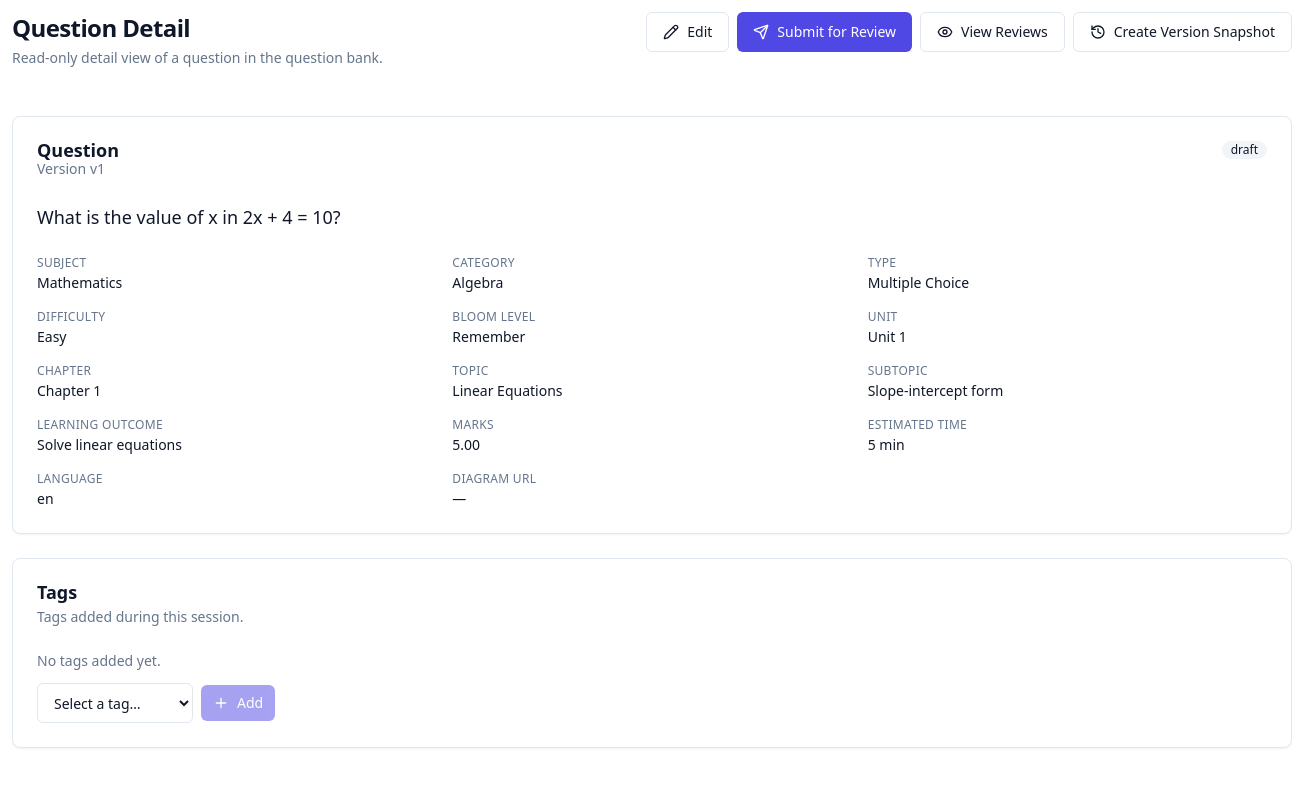
Scenario: QuestionViewerPage › adds a tag via the select and Add button
This screenshot has width=1304, height=812.
Expected: the text "What is the value of x in 2x + 4 = 10?" is shown, [37,205,341,229]
Expected: the text "No tags added yet." is shown, [37,651,161,671]
Select "Algebra Basics" in the dropdown named "Select tag to add" at {"x": 115, "y": 703}, box [37,683,193,723]
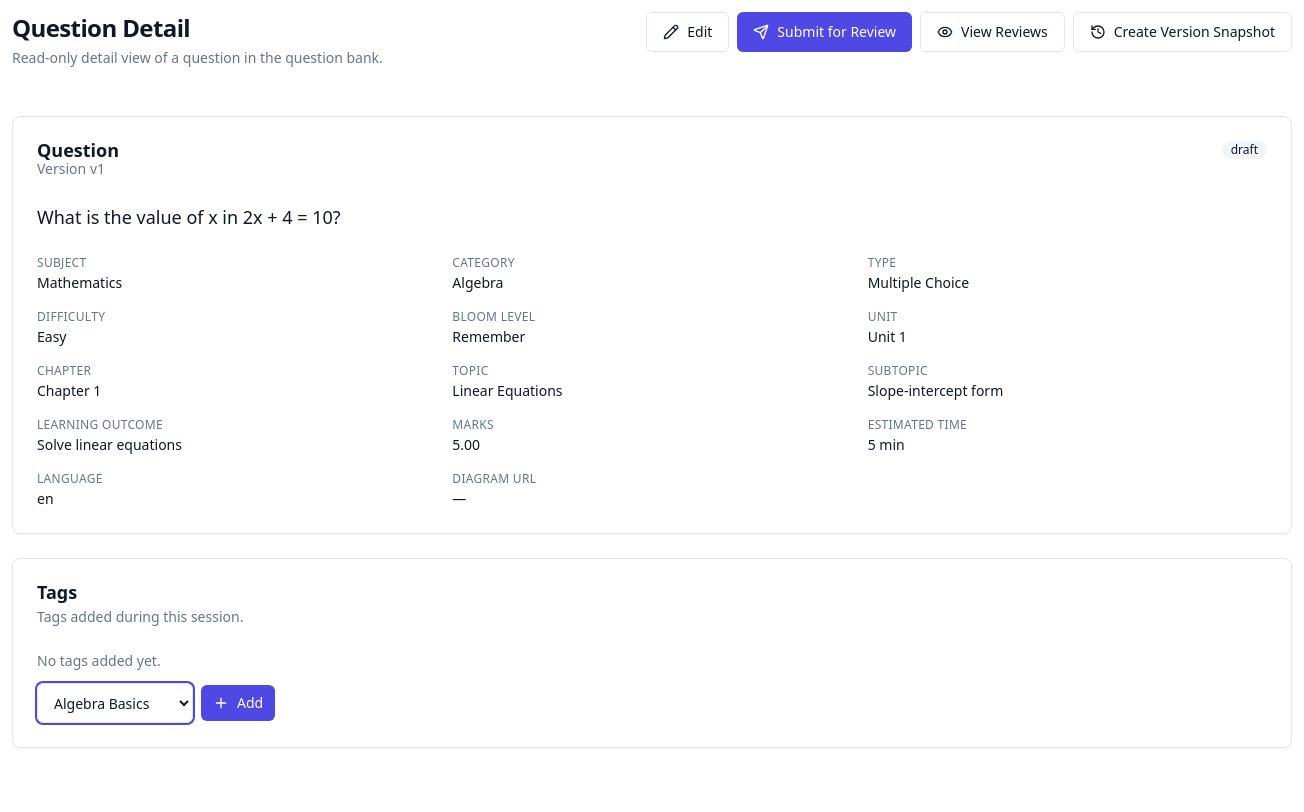
Click the button "Add" at {"x": 238, "y": 703}, box [201,685,275,721]
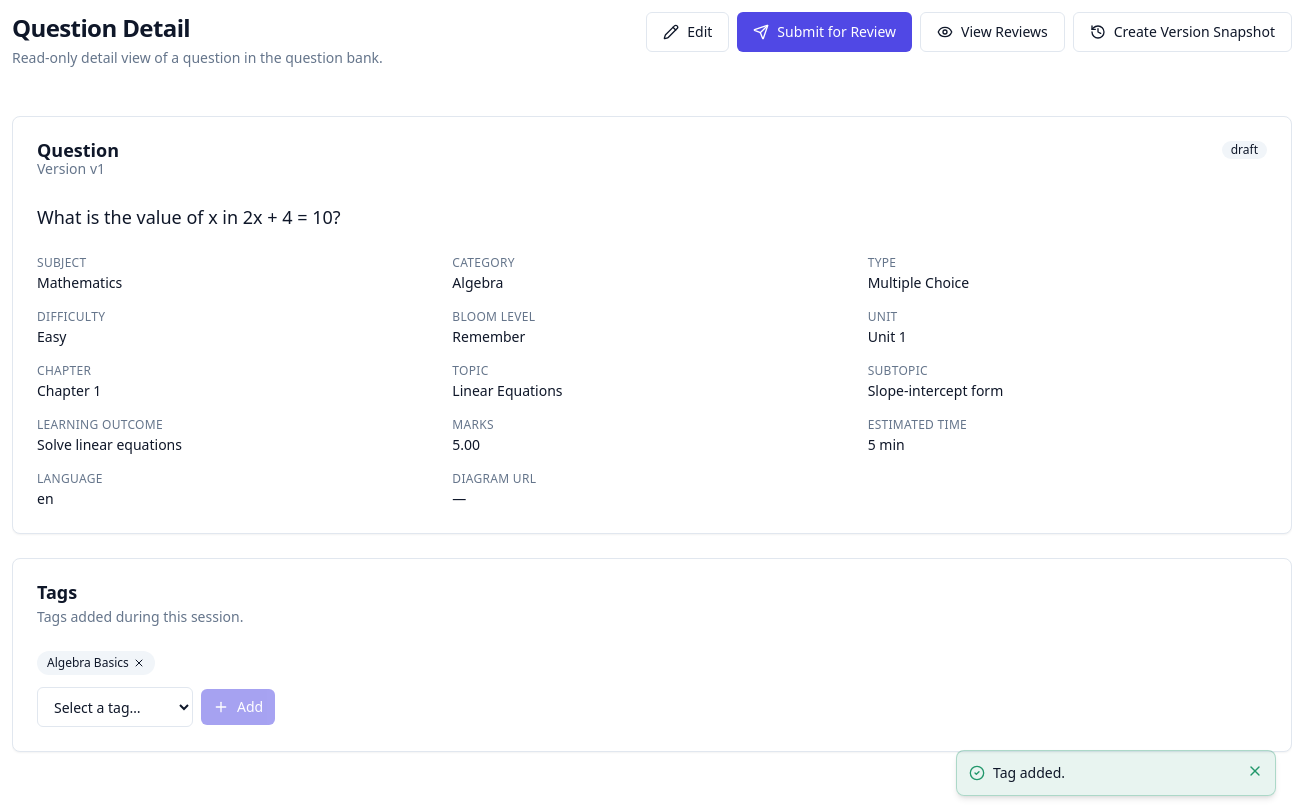
Result: the button named "Remove tag Algebra Basics" is shown at [133,657,145,669]
Result: the text "No tags added yet." is gone
